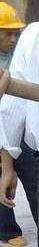boots: (1, 234, 27, 246), (1, 1, 1, 1)
hard-hat: (1, 1, 25, 30)
